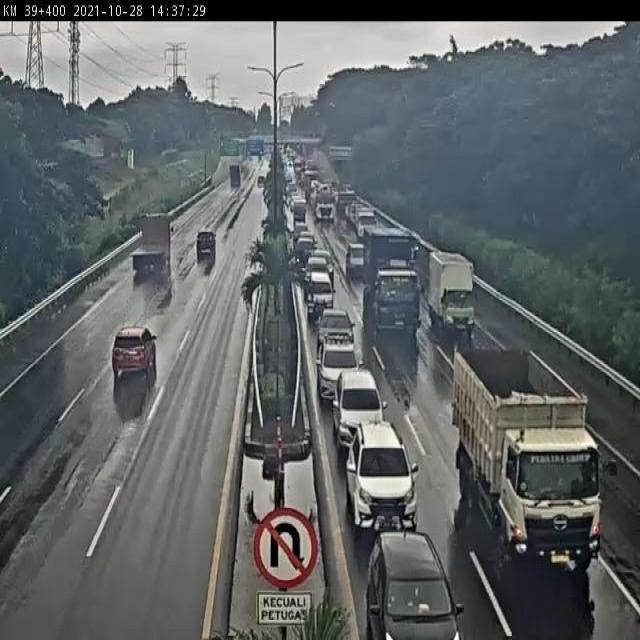big truck: (445, 340, 619, 576), (361, 226, 422, 342), (132, 215, 173, 282)
car: (365, 532, 465, 640), (346, 423, 412, 528), (333, 367, 384, 452), (318, 343, 364, 405), (112, 327, 157, 384), (317, 312, 355, 359), (304, 270, 333, 318), (193, 228, 219, 257)
small truck: (427, 250, 477, 338)
